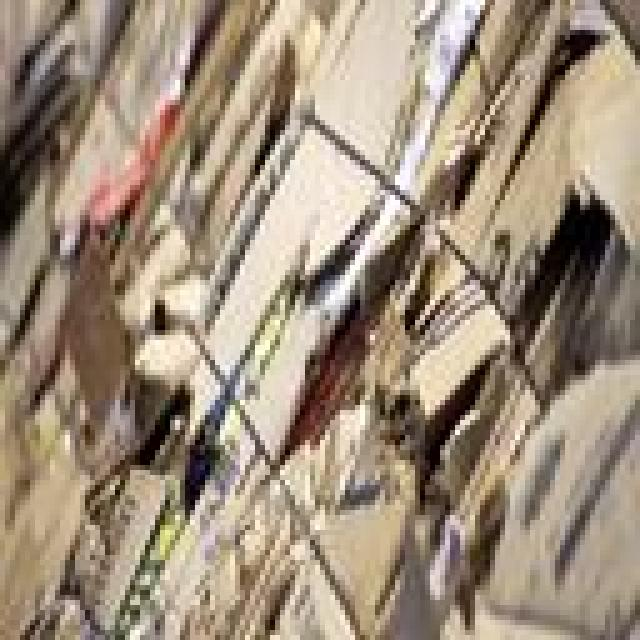cardboard: (0, 0, 635, 635), (185, 105, 540, 635), (15, 320, 355, 635), (300, 0, 635, 305), (0, 145, 125, 635), (440, 365, 635, 635), (50, 0, 235, 240), (145, 0, 300, 235), (0, 0, 100, 140)
